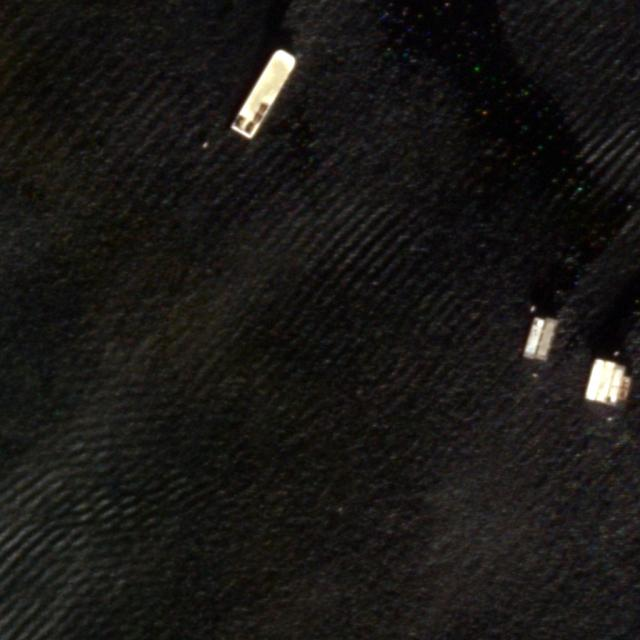boats: (228, 48, 294, 142), (588, 364, 638, 403), (525, 315, 559, 358)
